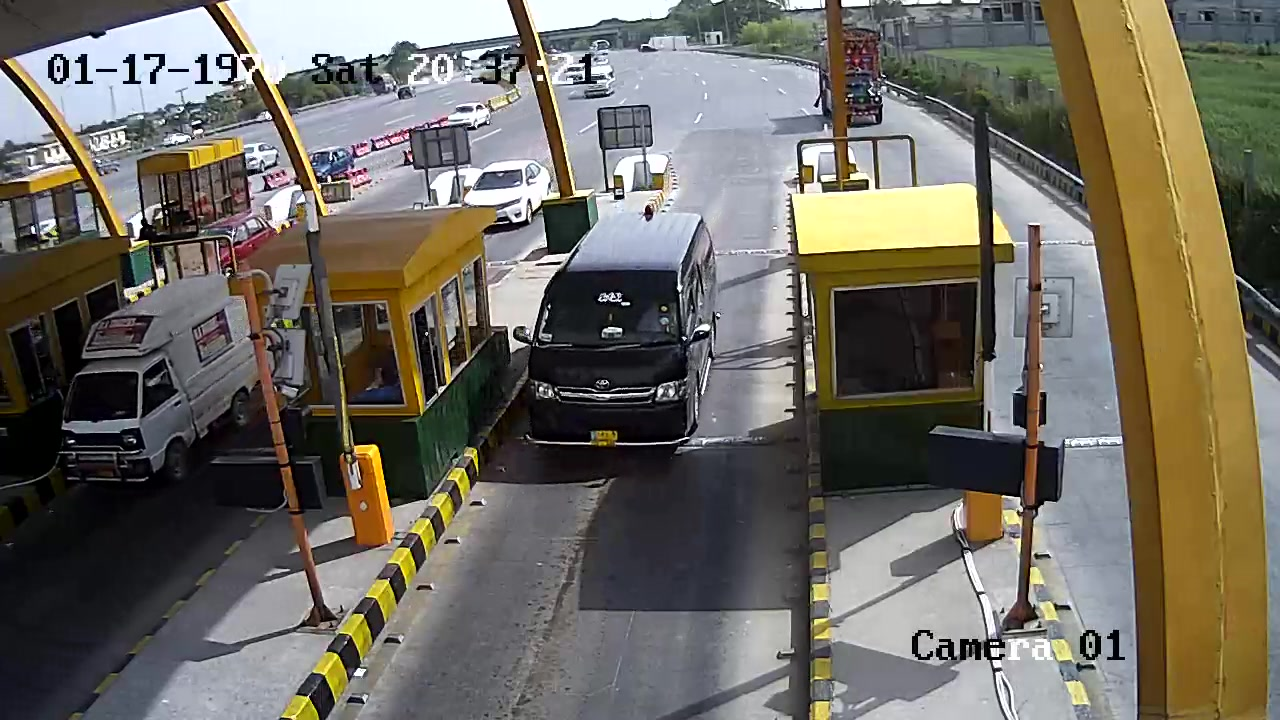F3: (511, 204, 740, 512)
